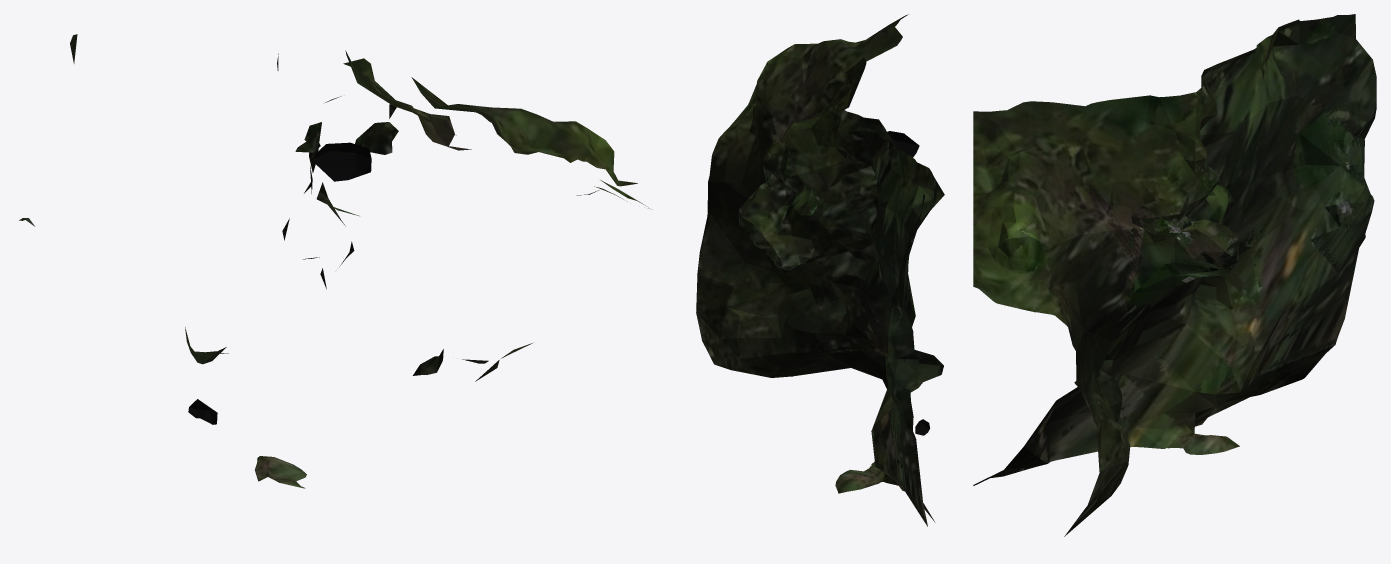
3 renders of one model, left to right at view 1: azimuth 30°, elevation 25°; view 2: azimuth 150°, elevation 25°; view 3: azimuth 270°, elevation 25°, orthographic. The views are drawn at different scales.
Size of the model in its own units: 0.8374 by 0.8374 by 0.8373.
Materials: 4 (4 with a texture image).
